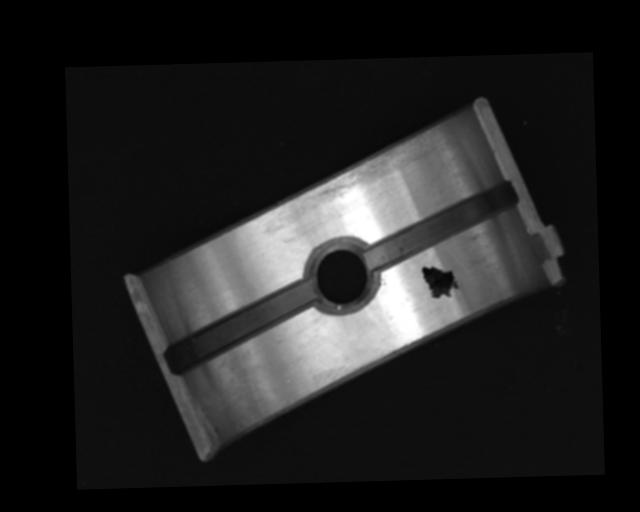blot: (421, 263, 462, 299)
gap: (165, 279, 317, 373), (363, 180, 518, 267)
hole: (304, 235, 378, 314)
scratch: (294, 128, 441, 201)
